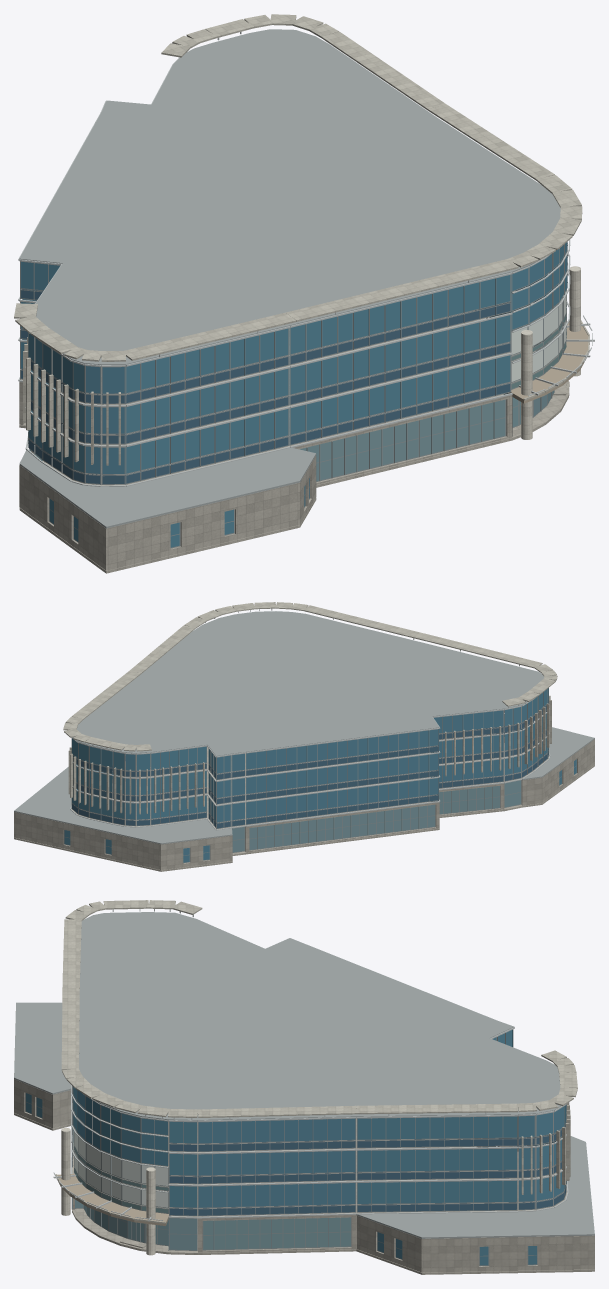
The picture shows the model from 3 angles, top to bottom: view 1: azimuth 30°, elevation 25°; view 2: azimuth 150°, elevation 25°; view 3: azimuth 270°, elevation 25°; orthographic projection. The views are drawn at different scales.
Parts seen in each view (by area): view 1: library__roof, library__glass, library__trim, library__stone, library__frame, library__spandrelglass, library__lightglass, library__metal, library__lobbycolumn, library__lobbyglass, library__soffit; view 2: library__roof, library__glass, library__stone, library__frame, library__trim, library__spandrelglass, library__lightglass, library__metal; view 3: library__roof, library__glass, library__stone, library__frame, library__trim, library__spandrelglass, library__lightglass, library__metal, library__lobbyglass, library__lobbycolumn, library__soffit, library__lobbybandglass.
Boxes of the visible parts, x1,y1,x2,y2 form: library__roof: [19, 29, 560, 528]; library__glass: [21, 242, 567, 547]; library__trim: [14, 14, 589, 465]; library__stone: [19, 291, 569, 573]; library__frame: [20, 242, 567, 548]; library__spandrelglass: [20, 268, 554, 484]; library__lightglass: [29, 302, 554, 481]; library__metal: [18, 31, 594, 486]; library__lobbycolumn: [521, 266, 580, 439]; library__lobbyglass: [511, 265, 566, 381]; library__soffit: [508, 321, 588, 403]; library__roof: [14, 611, 594, 844]; library__glass: [64, 688, 576, 862]; library__stone: [14, 730, 594, 871]; library__frame: [64, 688, 576, 863]; library__trim: [63, 602, 557, 814]; library__spandrelglass: [72, 701, 548, 828]; library__lightglass: [145, 754, 520, 852]; library__metal: [70, 608, 550, 830]; library__roof: [14, 912, 594, 1238]; library__glass: [26, 1029, 566, 1265]; library__stone: [14, 1011, 594, 1274]; library__frame: [25, 1029, 566, 1266]; library__trim: [55, 900, 577, 1223]; library__spandrelglass: [73, 1122, 566, 1215]; library__lightglass: [72, 1138, 495, 1250]; library__metal: [53, 909, 568, 1221]; library__lobbyglass: [74, 1128, 168, 1207]; library__lobbycolumn: [61, 1128, 155, 1255]; library__soffit: [57, 1174, 169, 1225]; library__lobbybandglass: [74, 1147, 168, 1213].
Size of the model in its own units: 70.55 by 19.97 by 73.72.
12 materials, 3 textured.
